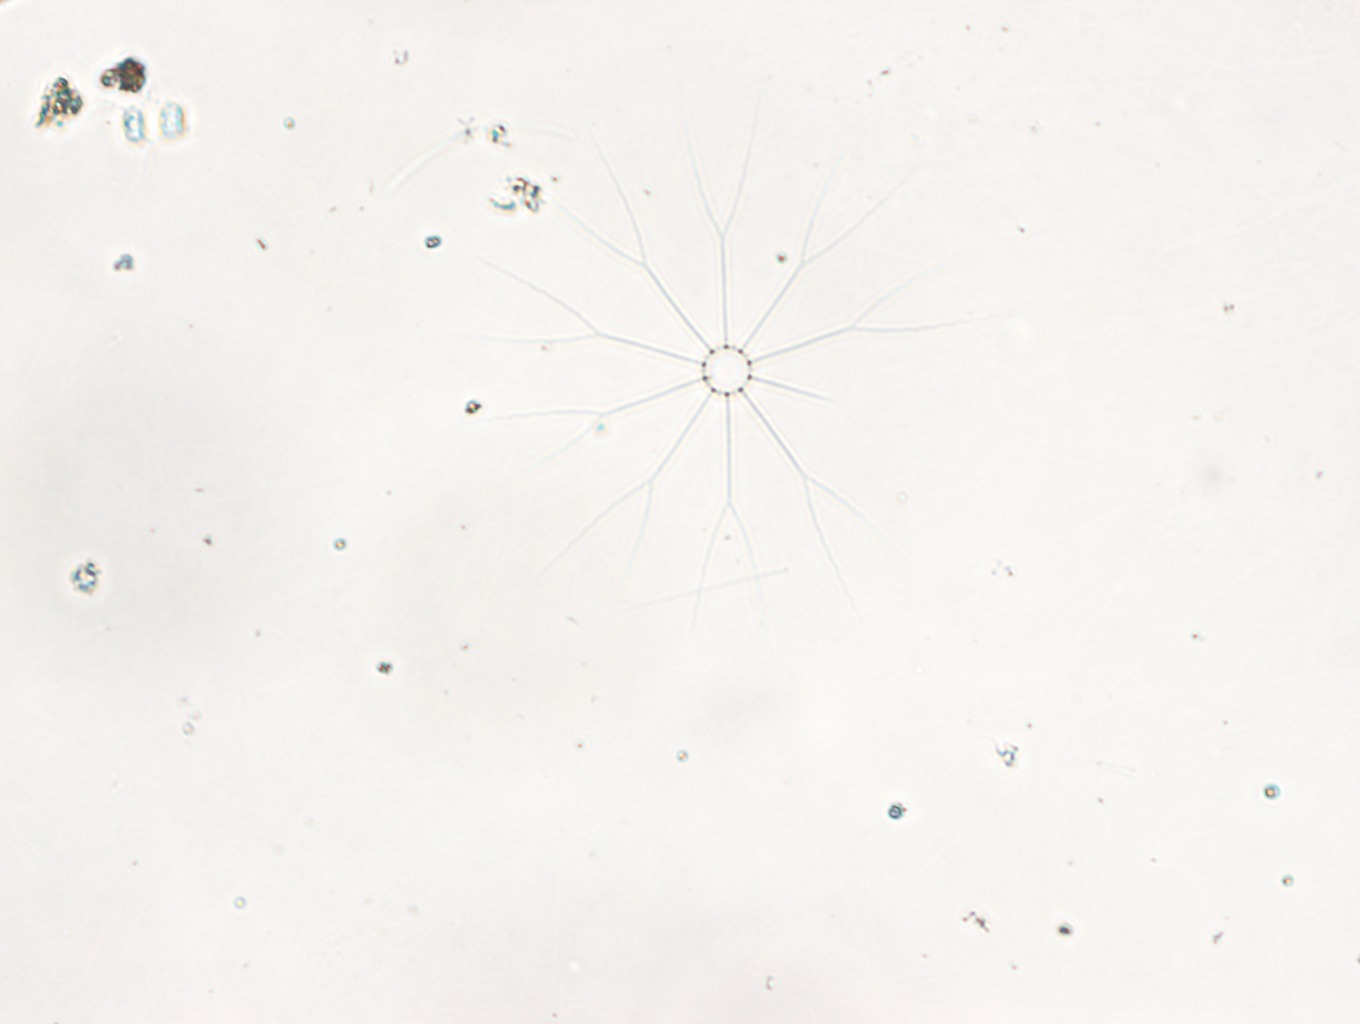bacteriastrum: (497, 113, 992, 589)
